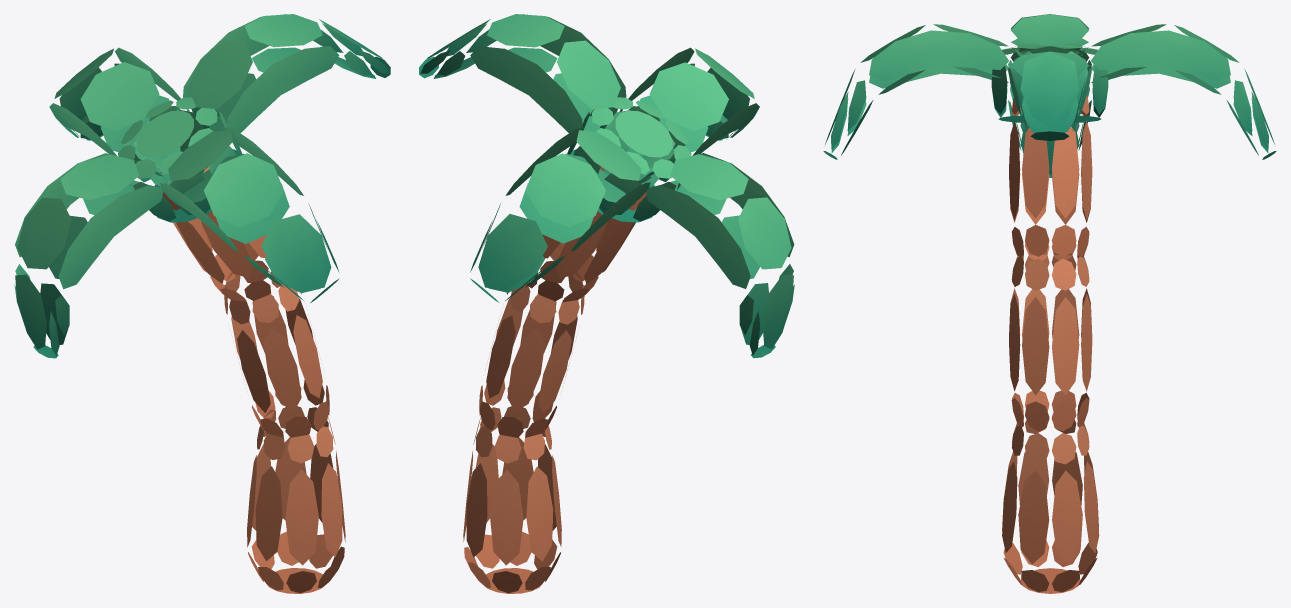
The model's file is palm-bend.glb.
The picture shows the model from 3 angles, left to right: view 1: azimuth 30°, elevation 25°; view 2: azimuth 150°, elevation 25°; view 3: azimuth 270°, elevation 25°; orthographic projection.
Parts seen in each view (by area): view 1: palm-bend; view 2: palm-bend; view 3: palm-bend.
Part boxes in pixels (<box>): palm-bend: <box>14,14,390,593</box>; palm-bend: <box>419,14,794,593</box>; palm-bend: <box>823,14,1276,593</box>.
Bounding box in the file's own units: 2.87 × 4.25 × 3.21.
Materials: 1 (1 with a texture image).
